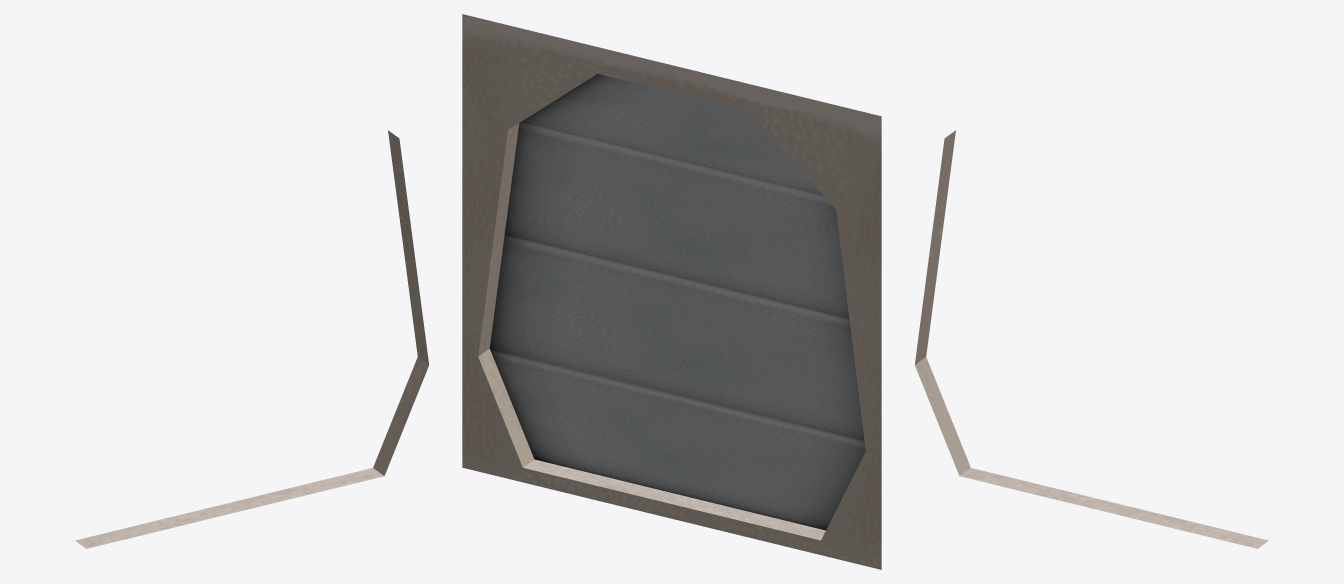
Rendered from galaxyCorridorEnd.glb.
The picture shows the model from 3 angles, left to right: view 1: azimuth 30°, elevation 25°; view 2: azimuth 150°, elevation 25°; view 3: azimuth 330°, elevation 25°; orthographic projection.
Parts seen in each view (by area): view 1: End; view 2: End; view 3: End.
Part boxes in pixels (box(x1,y1,x2,y2)): End: box(75, 130, 428, 548); End: box(462, 14, 881, 569); End: box(915, 130, 1268, 548).
Size of the model in its own units: 3 by 3.1 by 0.1421.
1 material, 1 textured.
